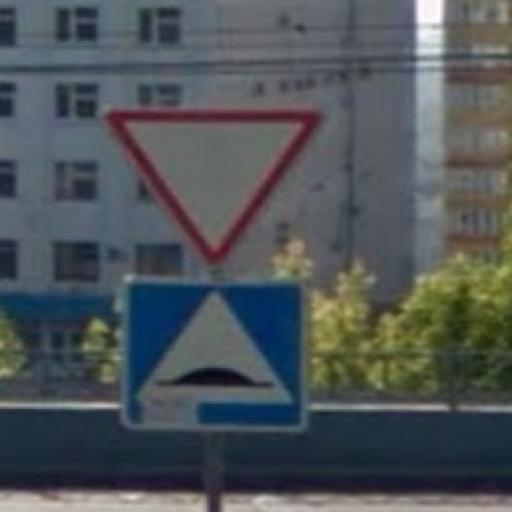traffic_sign: (103, 106, 332, 273), (120, 274, 312, 435)
